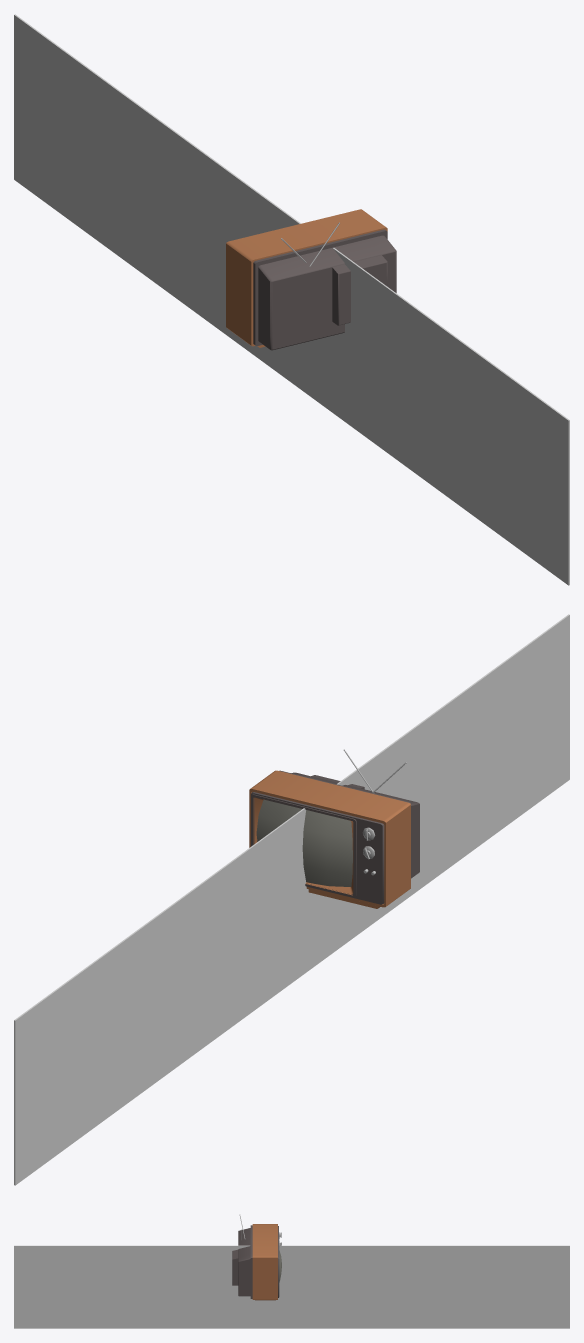
Rendered from Billboard_PoppyPlaytime.fbx.
3 views of the same model, one above another, from view 1: azimuth 30°, elevation 25°; view 2: azimuth 150°, elevation 25°; view 3: azimuth 270°, elevation 25° (orthographic). The views are drawn at different scales.
Parts seen in each view (by area): view 1: Cube, Old_tv; view 2: Cube, Old_tv; view 3: Cube, Old_tv.
Boxes of the visible parts, <box> form: Cube: <box>14,14,569,585</box>; Old_tv: <box>226,209,396,350</box>; Cube: <box>14,614,569,1185</box>; Old_tv: <box>249,749,419,908</box>; Cube: <box>14,1245,569,1328</box>; Old_tv: <box>232,1214,281,1300</box>.
Size of the model in its own units: 8.39 by 11.6 by 59.02.
2 materials, 1 textured.
